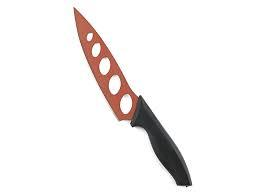Knife: (72, 6, 192, 187)
